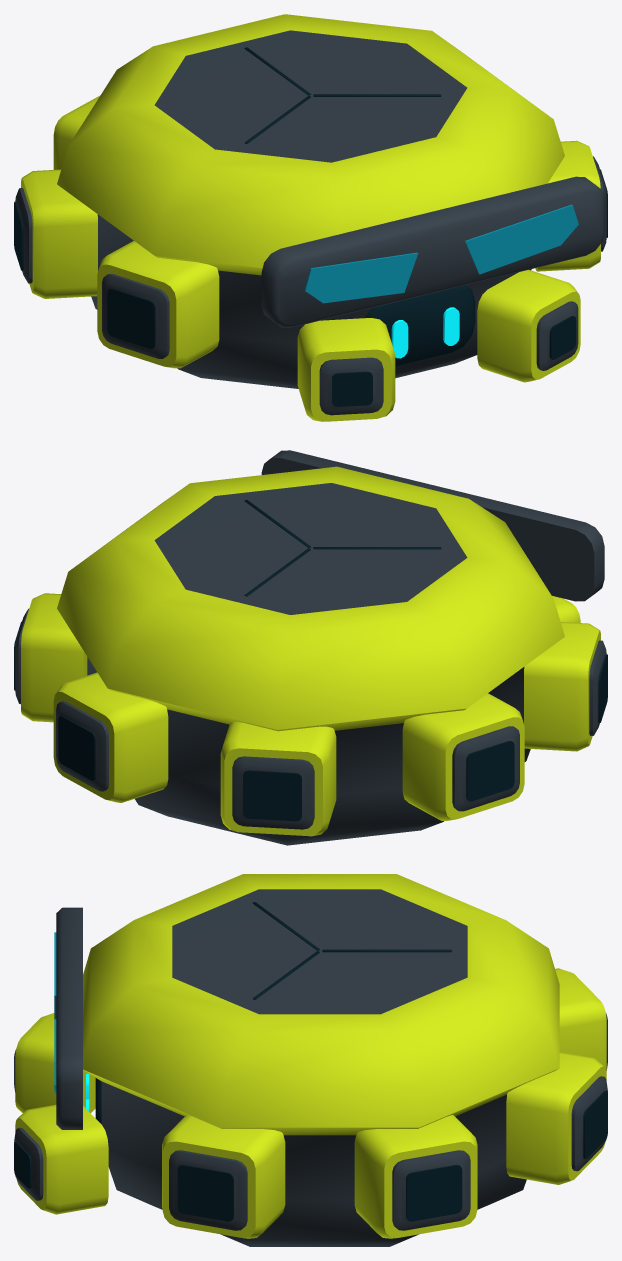
The model's file is linter_agent_v01.glb.
3 renders of one model, top to bottom at view 1: azimuth 30°, elevation 25°; view 2: azimuth 150°, elevation 25°; view 3: azimuth 270°, elevation 25°, orthographic.
Parts seen in each view (by area): view 1: linter_agent_model; view 2: linter_agent_model; view 3: linter_agent_model.
Part boxes in pixels (<box>): linter_agent_model: <box>14,14,607,421</box>; linter_agent_model: <box>14,450,607,845</box>; linter_agent_model: <box>14,874,607,1246</box>.
Size of the model in its own units: 2.49 by 1.08 by 2.56.
Materials: 2 (2 with a texture image).
